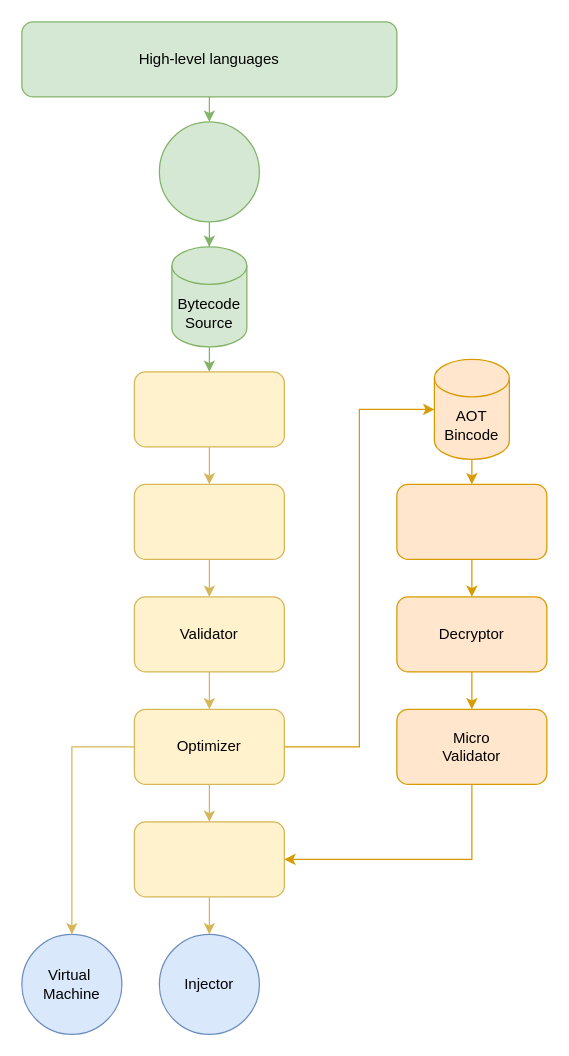
Some shapes in this 569 by 1056 pixel diagram are drawn without their labels. The centre of each missing label's shape, as x and y in pixels:
AST Data: the point at 208,521
Decompressor: the point at 471,521
Frontend Interpreter: the point at 208,171
Interpreter: the point at 208,409
JIT Compiler: the point at 208,859
